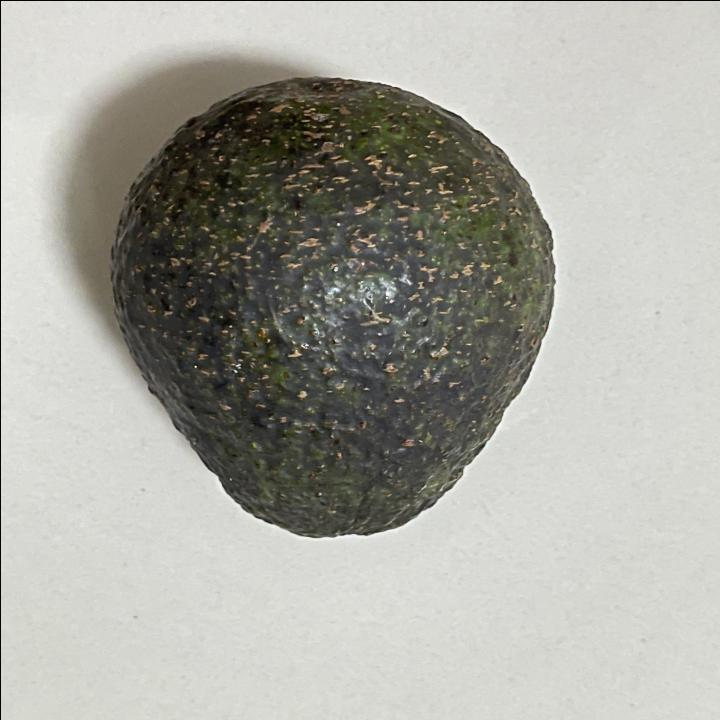Level1: (88, 58, 586, 556)
